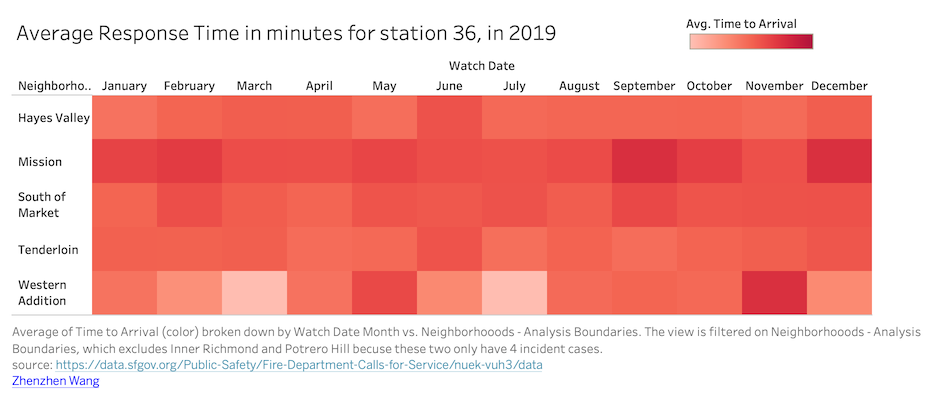

Layout of this report page (visuals, bound fields, positions):
{"tool":"tableau","page":{"name":"HeatMap","canvas":[1000,800],"ordinal":1},"visuals":[{"type":"worksheet","title":"Heat Map","mark":"Square","rows":["Neighborhooods - Analysis Boundaries"],"cols":["Watch Date"],"box":[8,8,824,784]},{"type":"filter","title":"Heat Map","param":"[federated.0cn4ezz19ygy0w166k5ly1trcdz3].[none:Call Type Group:nk]","box":[832,8,160,146]},{"type":"legend","title":"Heat Map","param":"[federated.0cn4ezz19ygy0w166k5ly1trcdz3].[avg:Calculation_247346160249446400:qk]","box":[832,154,160,65]}]}

Visuals, with their boxes on the page's 1000x800 design canvas (x1, y1, x2, y2). These are canvas units, not pixel positions in the 940x420 screenshot, which may show the page scaled, cropped or inside an application window:
"Heat Map" worksheet (Square marks): 8:8:832:792
"Heat Map" filter: 832:8:992:154
"Heat Map" legend: 832:154:992:219
